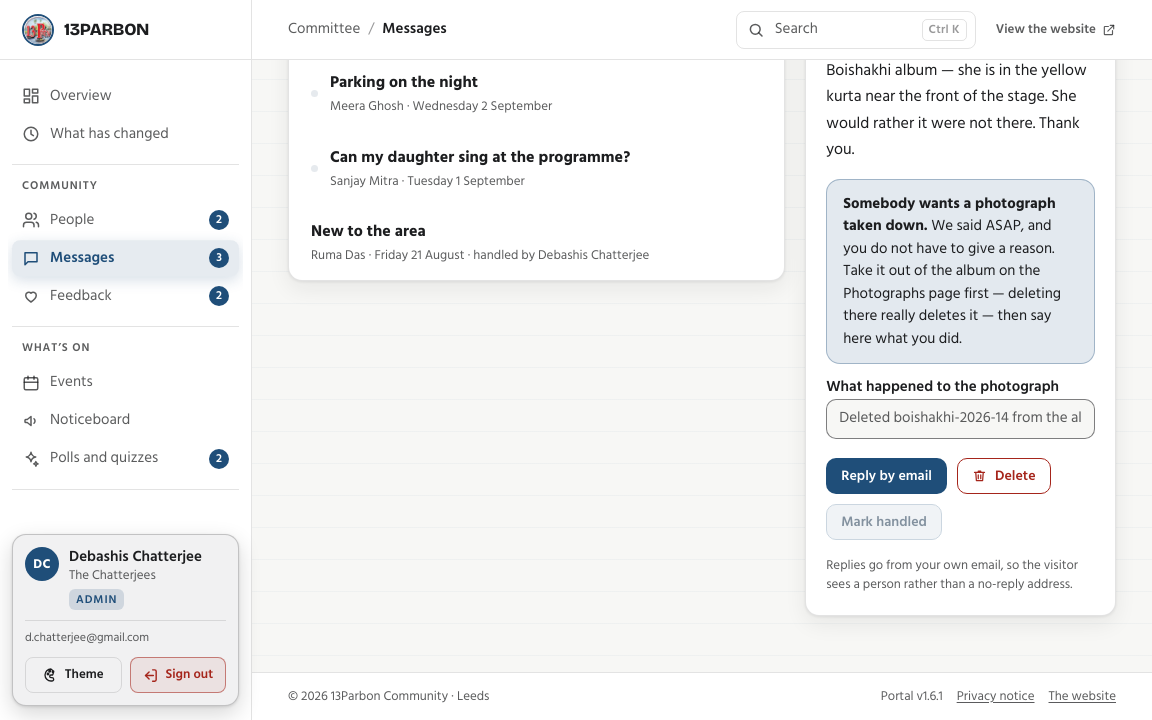
it: what the committee sees › keeps what was done, where the next person will see it
(page scrolled)
Type "Deleted boishakhi-2026-14" into the field labelled "What happened to the photograph" at (961, 419), box [826,399,1095,439]
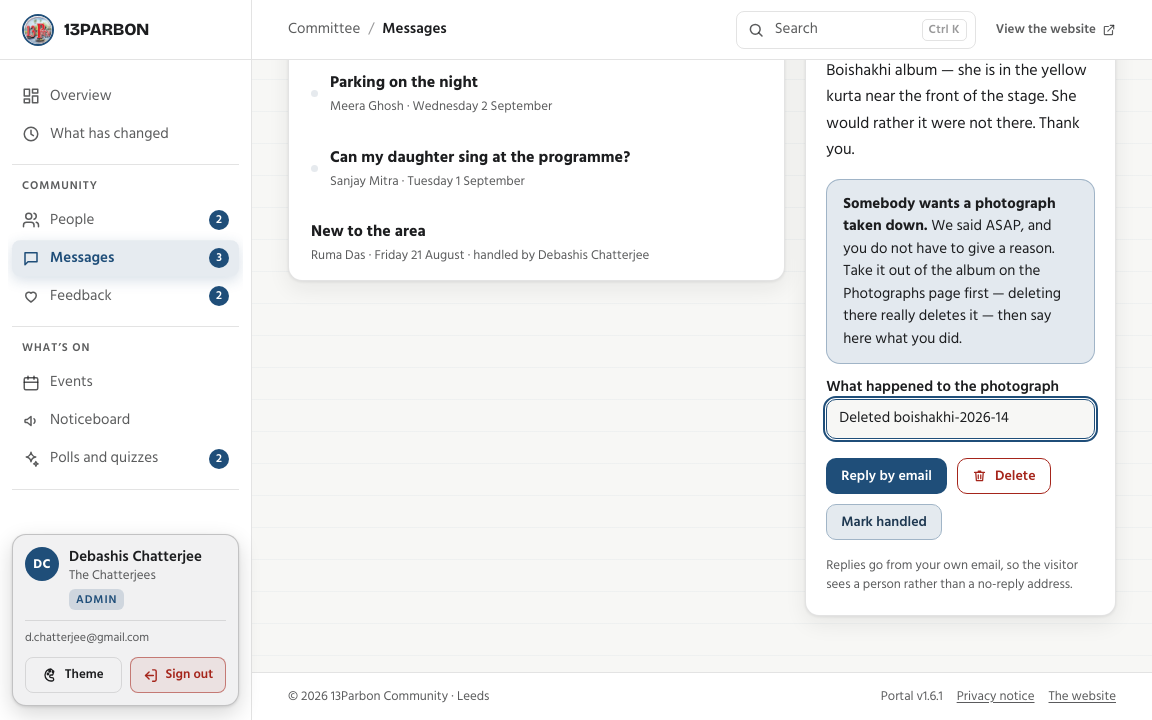
Click the button "Mark handled" at (884, 522), box [826,504,942,540]
(page scrolled)
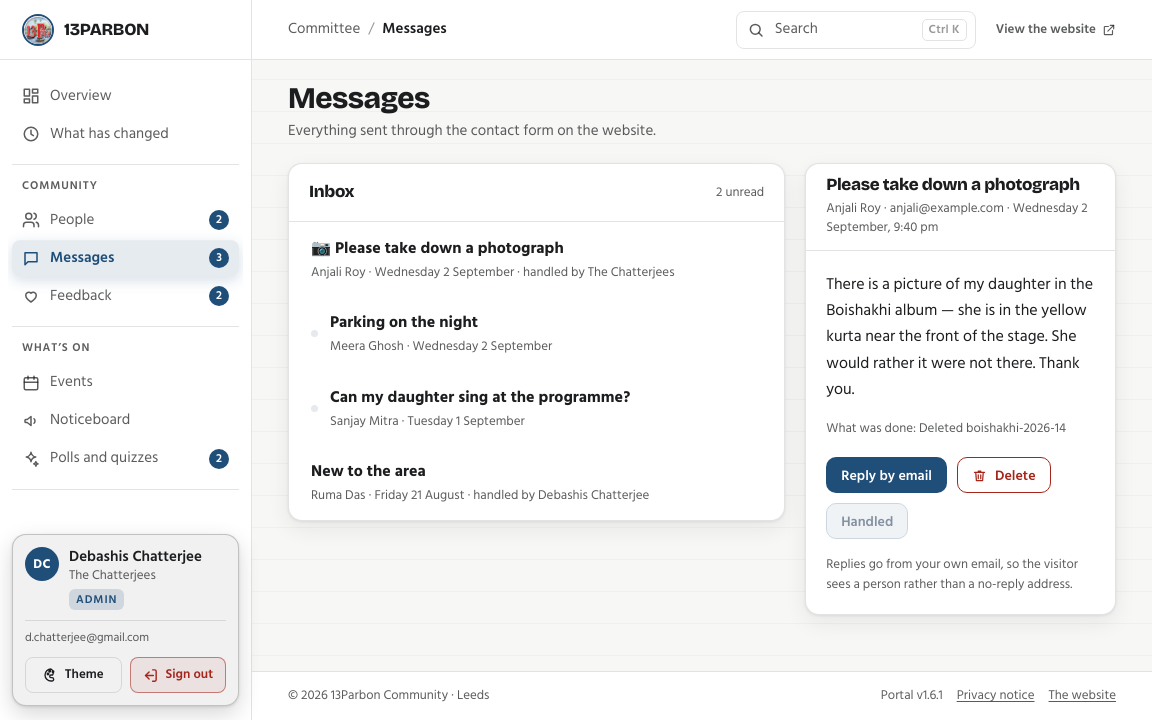
Expected: the text "What was done: Deleted boishakhi-2026-14" is shown, [826,419,1095,438]
